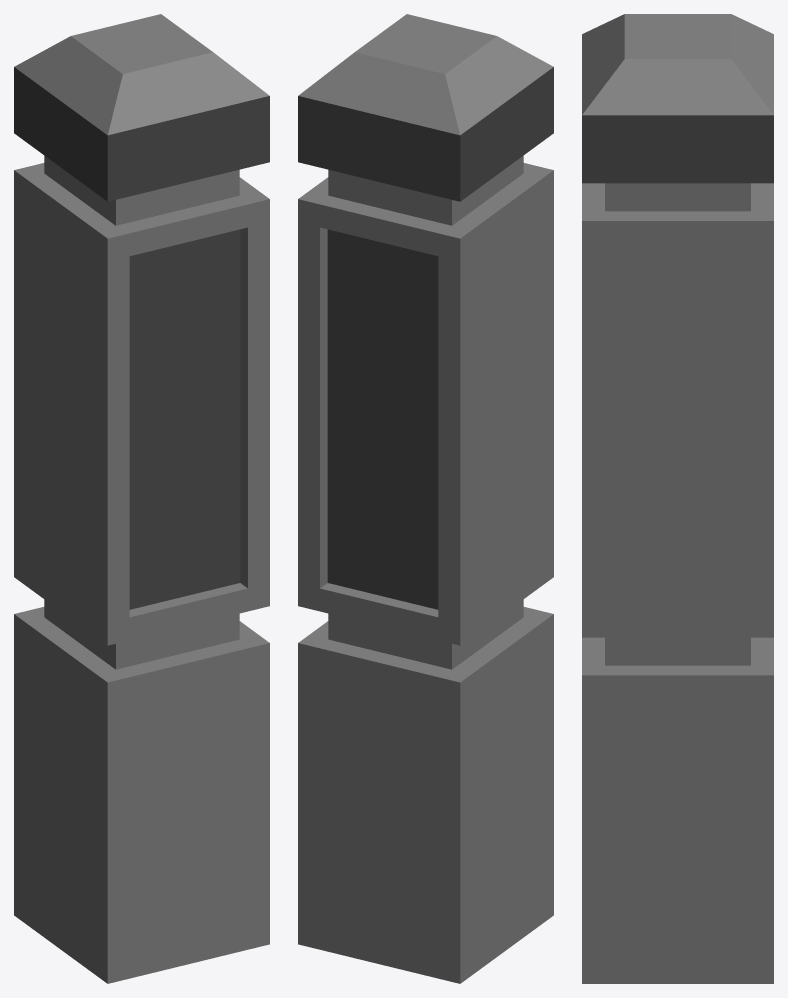
Rendered from FencePillar.fbx.
3 renders of one model, left to right at view 1: azimuth 30°, elevation 25°; view 2: azimuth 150°, elevation 25°; view 3: azimuth 270°, elevation 25°, orthographic. The views are drawn at different scales.
Visible parts, largest first — view 1: FencePillar; view 2: FencePillar; view 3: FencePillar.
Part boxes in pixels (x1,y1,x2,y2): FencePillar: [14, 14, 269, 983]; FencePillar: [298, 14, 553, 983]; FencePillar: [582, 14, 773, 983].
Bounding box in the file's own units: 40 × 209 × 40.
